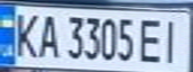0: (100, 15, 118, 62)
3: (60, 11, 84, 61), (81, 14, 103, 61)
5: (115, 15, 139, 63)
A: (33, 10, 60, 60)
E: (136, 16, 166, 64)
I: (157, 16, 187, 64)
K: (9, 9, 42, 60)
